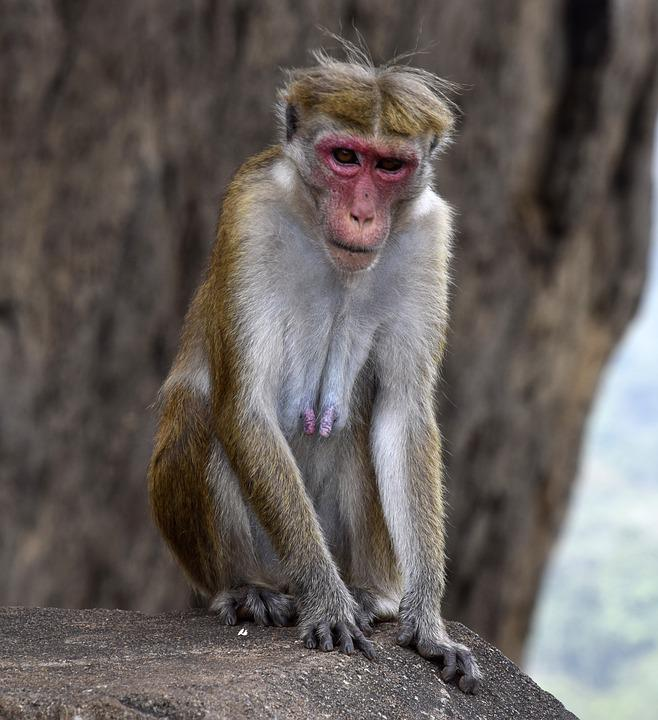Monkey: (123, 41, 521, 700)
